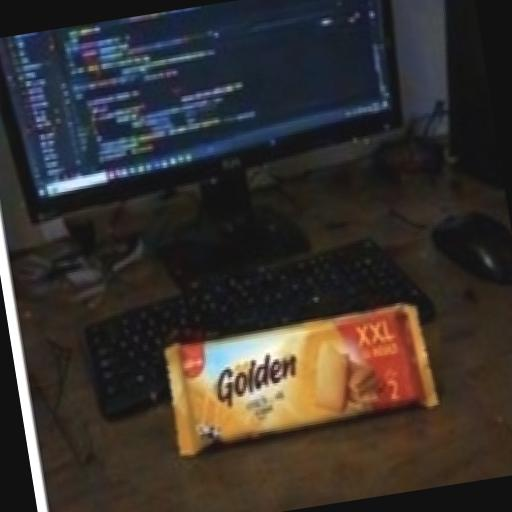golden: (114, 236, 472, 502)
